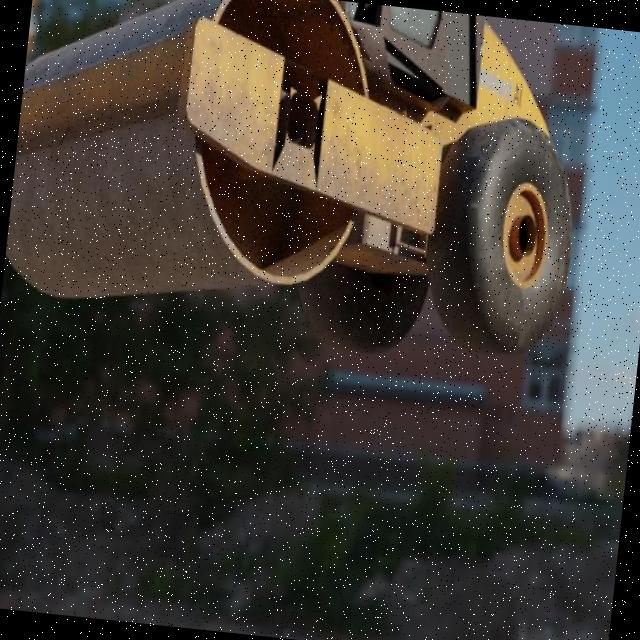Roller: (0, 0, 595, 377)
